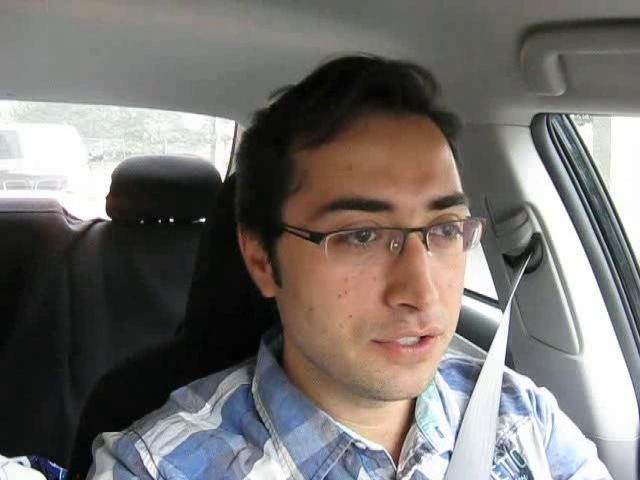eye_open: (332, 226, 385, 253), (423, 219, 465, 247)
face: (285, 170, 474, 401)
